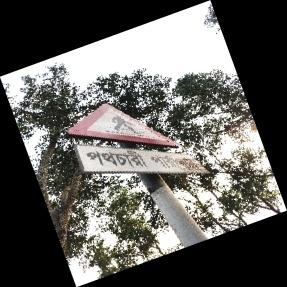Pedestrian-crossing: (66, 104, 208, 177)
